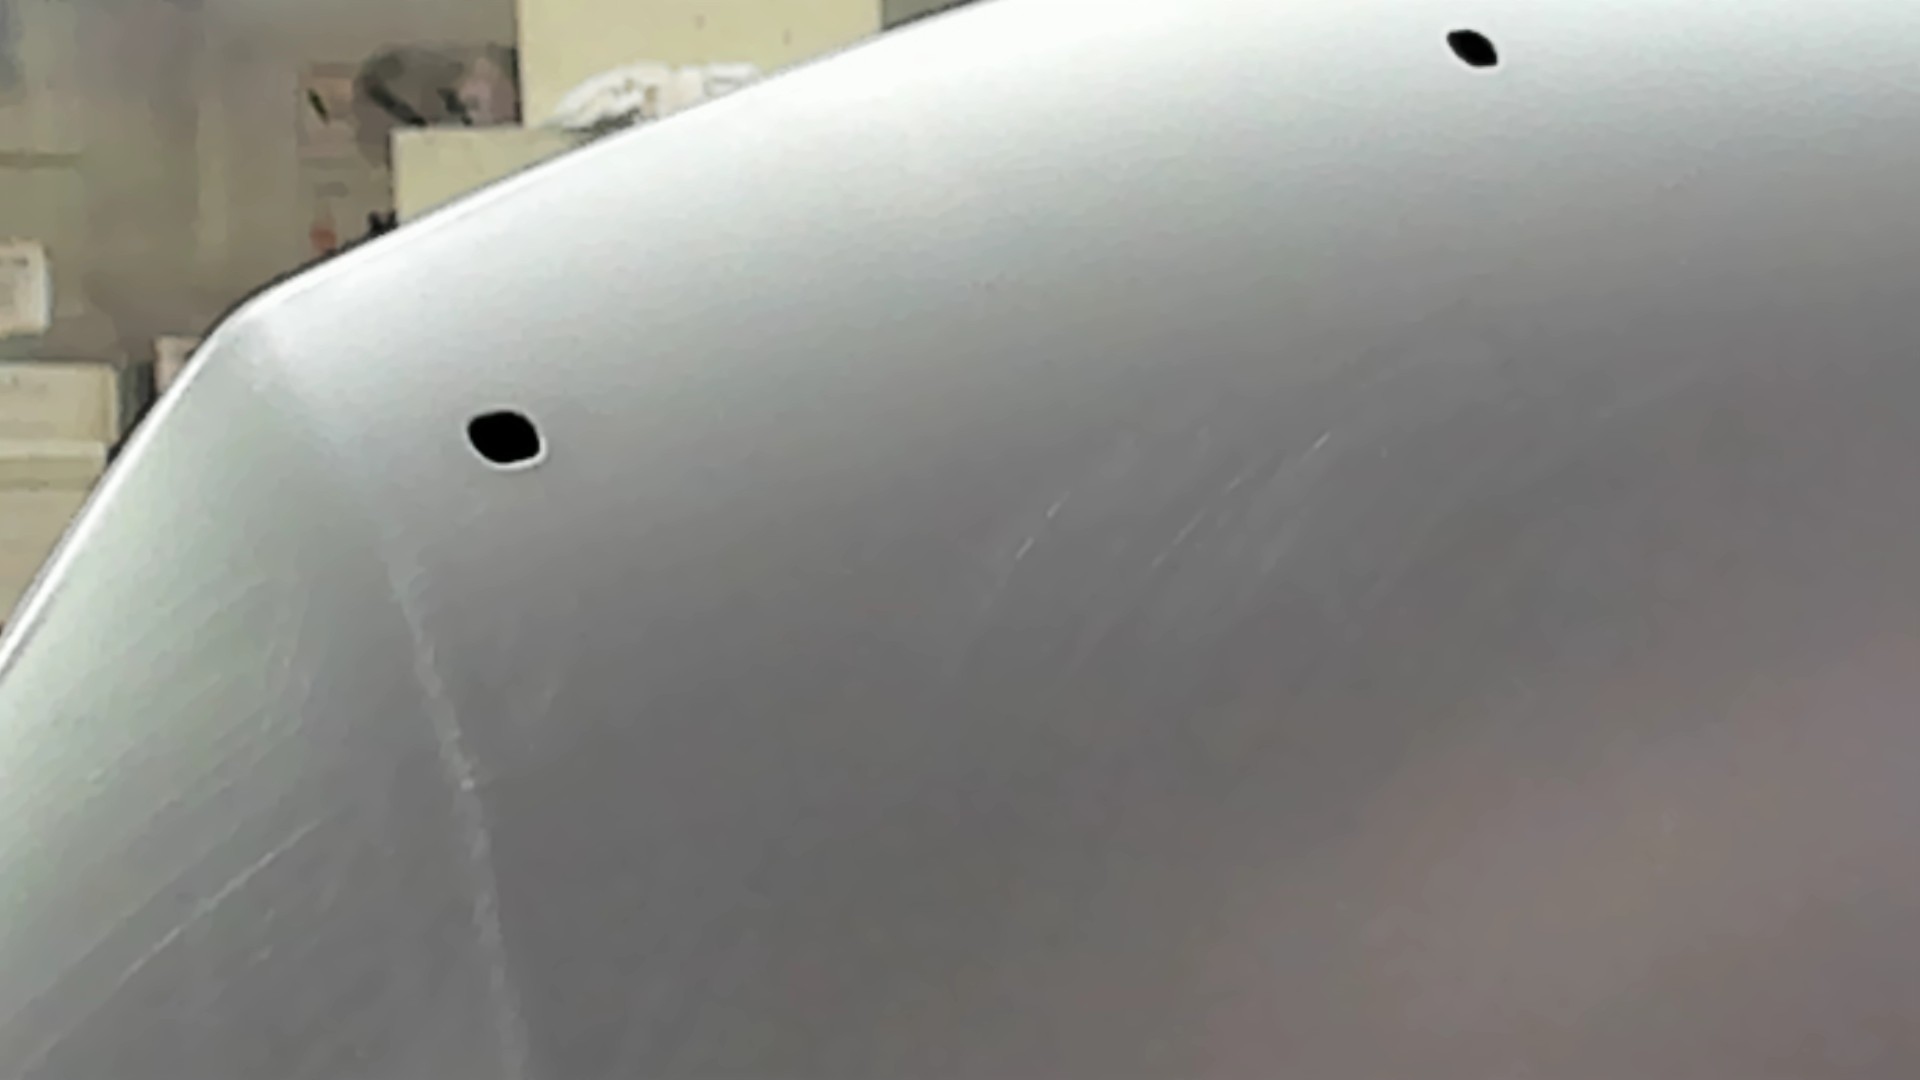amorfo: (460, 406, 553, 476), (1443, 24, 1502, 73)
